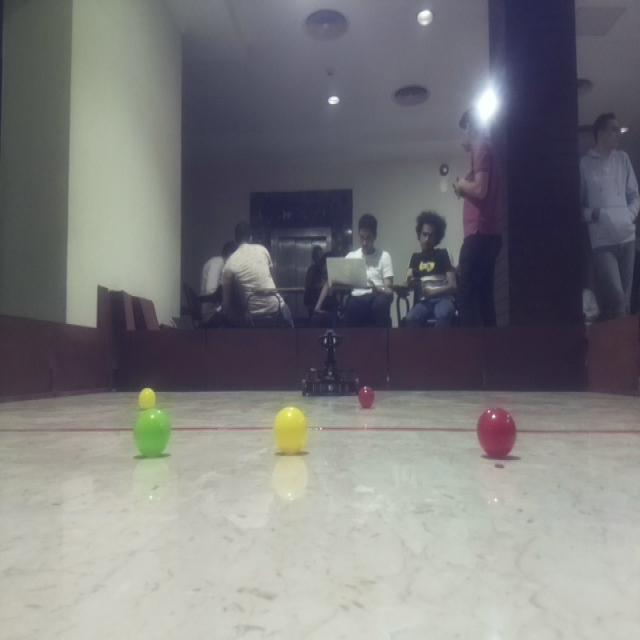ball: (474, 401, 518, 459), (133, 404, 173, 458), (271, 404, 311, 458), (134, 385, 162, 412), (354, 382, 378, 410)
